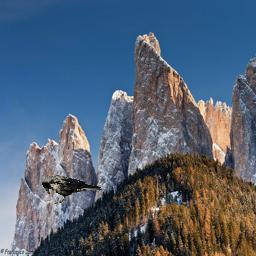Crow: (42, 175, 103, 205)
